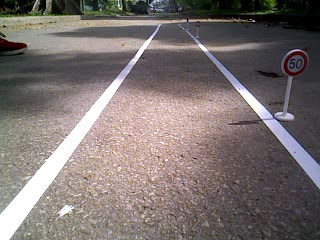limit 50: (279, 47, 311, 79)
